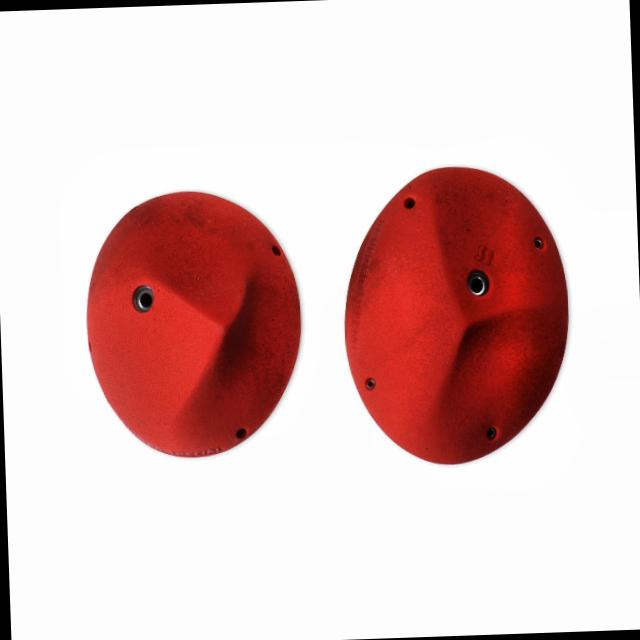Hold: (337, 154, 577, 468), (80, 180, 304, 464)
